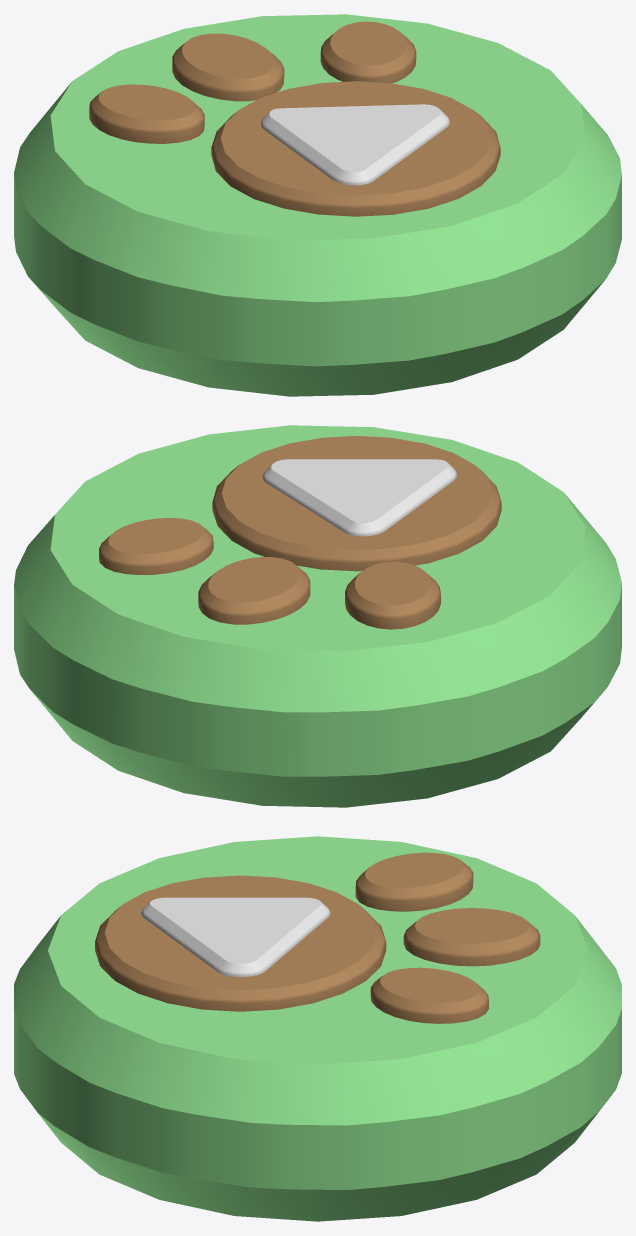
Rendered from play_button.fbx.
The picture shows the model from 3 angles, top to bottom: view 1: azimuth 30°, elevation 25°; view 2: azimuth 150°, elevation 25°; view 3: azimuth 270°, elevation 25°; orthographic projection.
Visible parts, largest first — view 1: pCylinder8, polySurface52, polySurface56, polySurface53, polySurface54, polySurface55; view 2: pCylinder8, polySurface52, polySurface56, polySurface53, polySurface55, polySurface54; view 3: pCylinder8, polySurface52, polySurface56, polySurface53, polySurface54, polySurface55.
Boxes of the visible parts, x1,y1,x2,y2 form: pCylinder8: [14, 14, 621, 396]; polySurface52: [211, 81, 500, 216]; polySurface56: [260, 104, 449, 185]; polySurface53: [172, 33, 284, 101]; polySurface54: [89, 84, 204, 143]; polySurface55: [320, 21, 416, 83]; pCylinder8: [14, 425, 621, 807]; polySurface52: [212, 436, 501, 571]; polySurface56: [262, 459, 456, 536]; polySurface53: [198, 557, 310, 624]; polySurface55: [99, 518, 213, 574]; polySurface54: [345, 561, 440, 629]; pCylinder8: [14, 836, 621, 1221]; polySurface52: [95, 875, 386, 1011]; polySurface56: [141, 897, 330, 976]; polySurface53: [403, 908, 540, 966]; polySurface54: [355, 852, 473, 911]; polySurface55: [370, 967, 488, 1023].
Size of the model in its own units: 0.0197 by 0.00658 by 0.0197.
